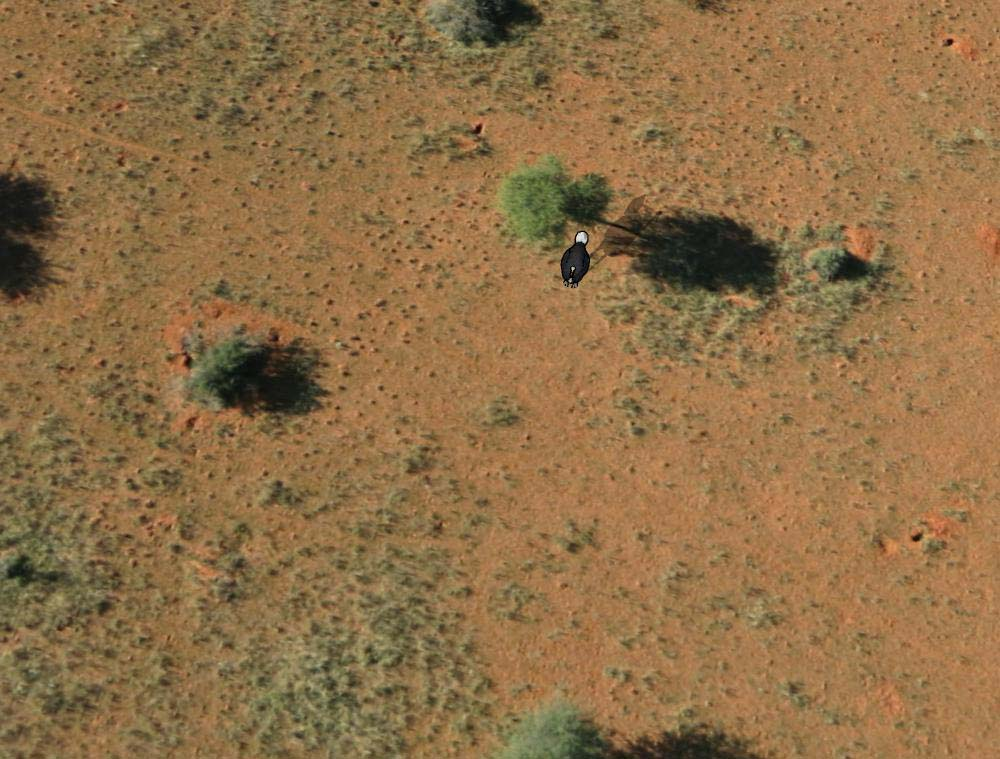ostrich: (559, 230, 592, 289)
